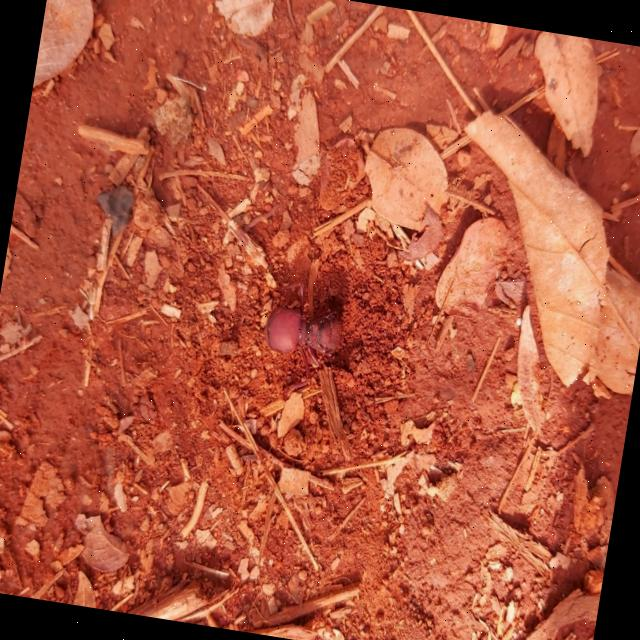Alive-Female-Dealate: (258, 300, 352, 368)
